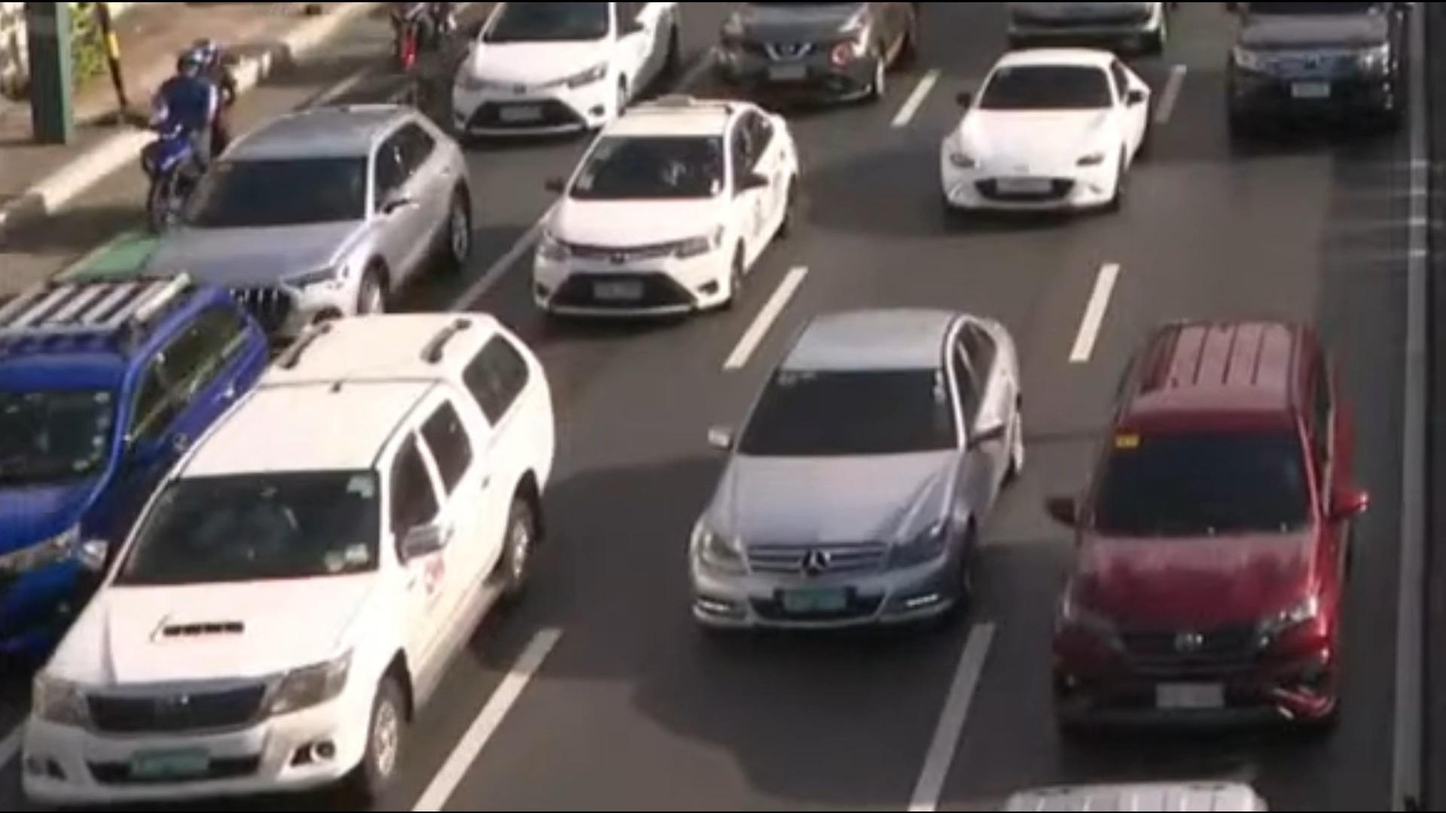Motorcycle: (128, 38, 230, 215), (376, 0, 457, 72)
SUV: (0, 303, 582, 813), (1036, 273, 1411, 785), (0, 277, 275, 657), (710, 0, 933, 138)
Sedan: (677, 305, 1028, 669), (126, 106, 499, 343), (540, 83, 819, 343), (933, 44, 1173, 224), (441, 0, 709, 145)
